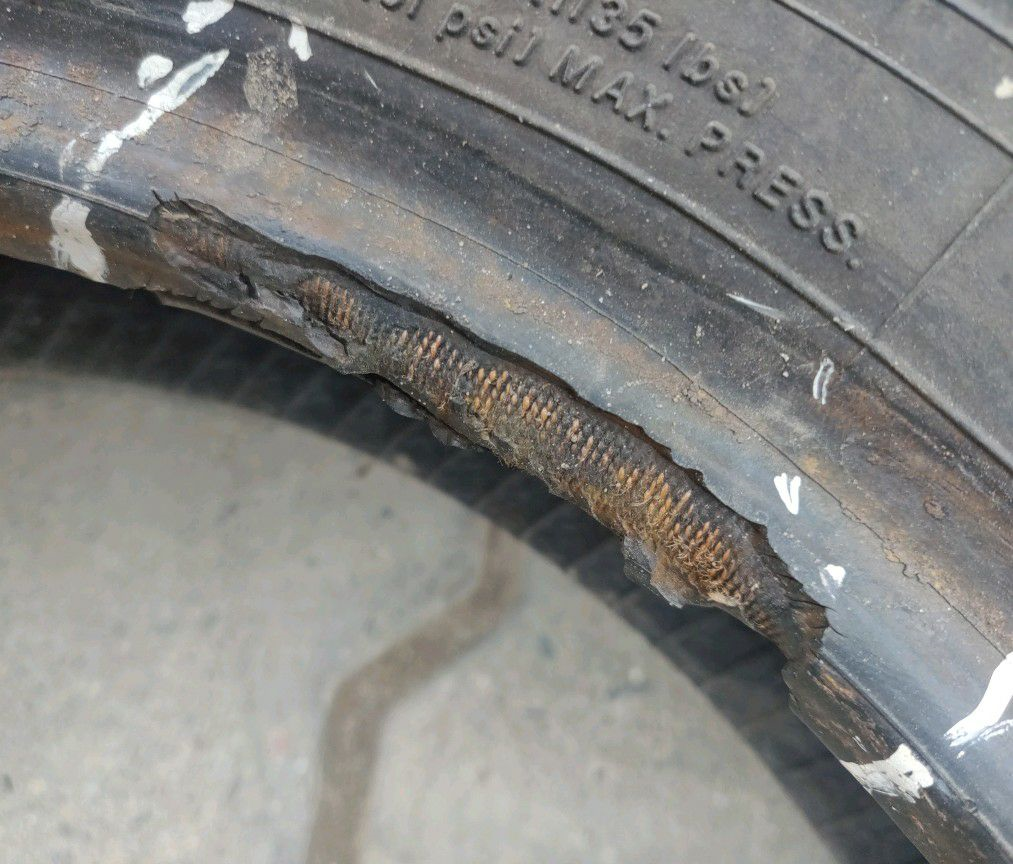bead_damage: (118, 186, 847, 734)
